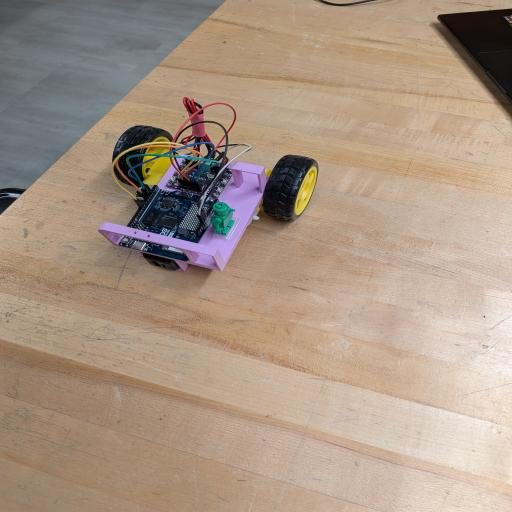Minifig: (211, 202, 235, 234)
